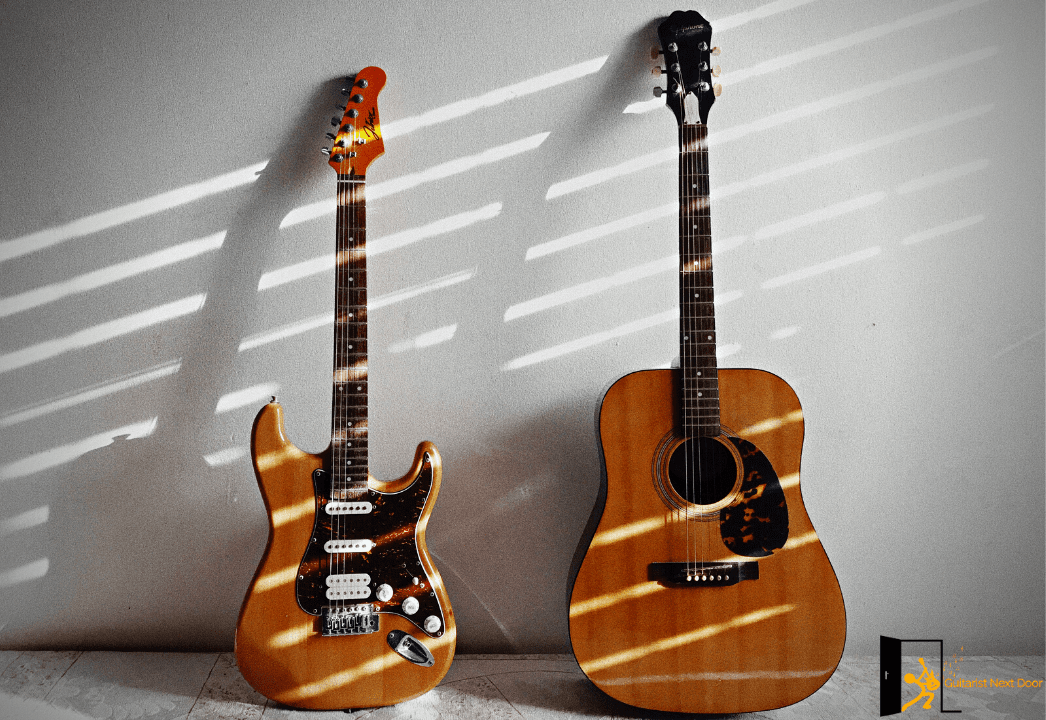guitar: (566, 3, 849, 718), (233, 65, 459, 713)
